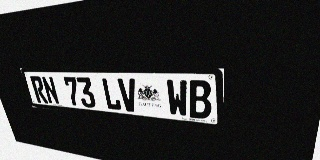3: (76, 77, 96, 108)
7: (62, 77, 82, 107)
B: (188, 80, 211, 119)
L: (101, 78, 122, 111)
N: (41, 76, 60, 105)
R: (30, 76, 48, 104)
V: (117, 78, 139, 112)
W: (166, 79, 189, 117)
